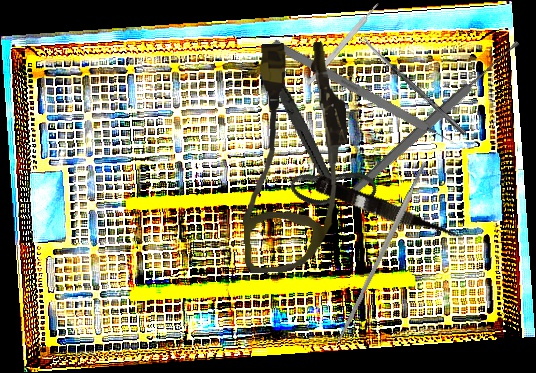Cannula: (234, 40, 354, 274)
Hook Surgical: (270, 38, 467, 154)
Iris Scissors: (215, 58, 408, 230)
Micro Scissor: (310, 173, 468, 251)
Scalpel Handle: (335, 160, 430, 344), (305, 1, 381, 87)
Surgical Spoon: (349, 38, 523, 197), (359, 34, 467, 136)
